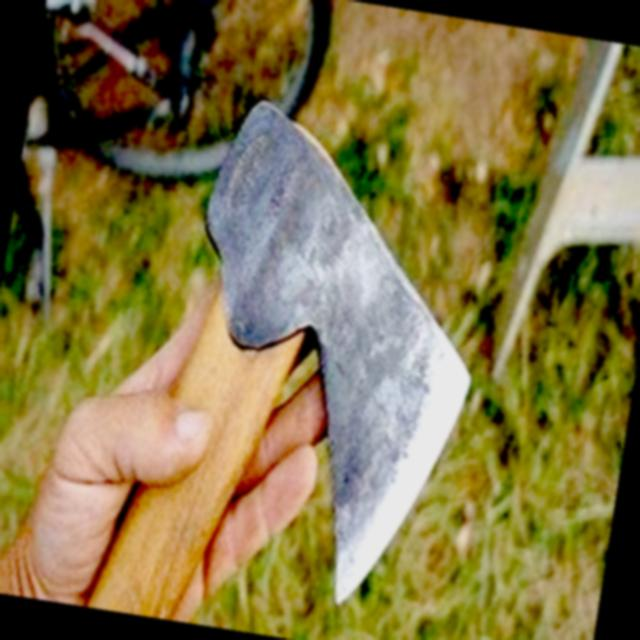ax: (73, 80, 521, 640)
